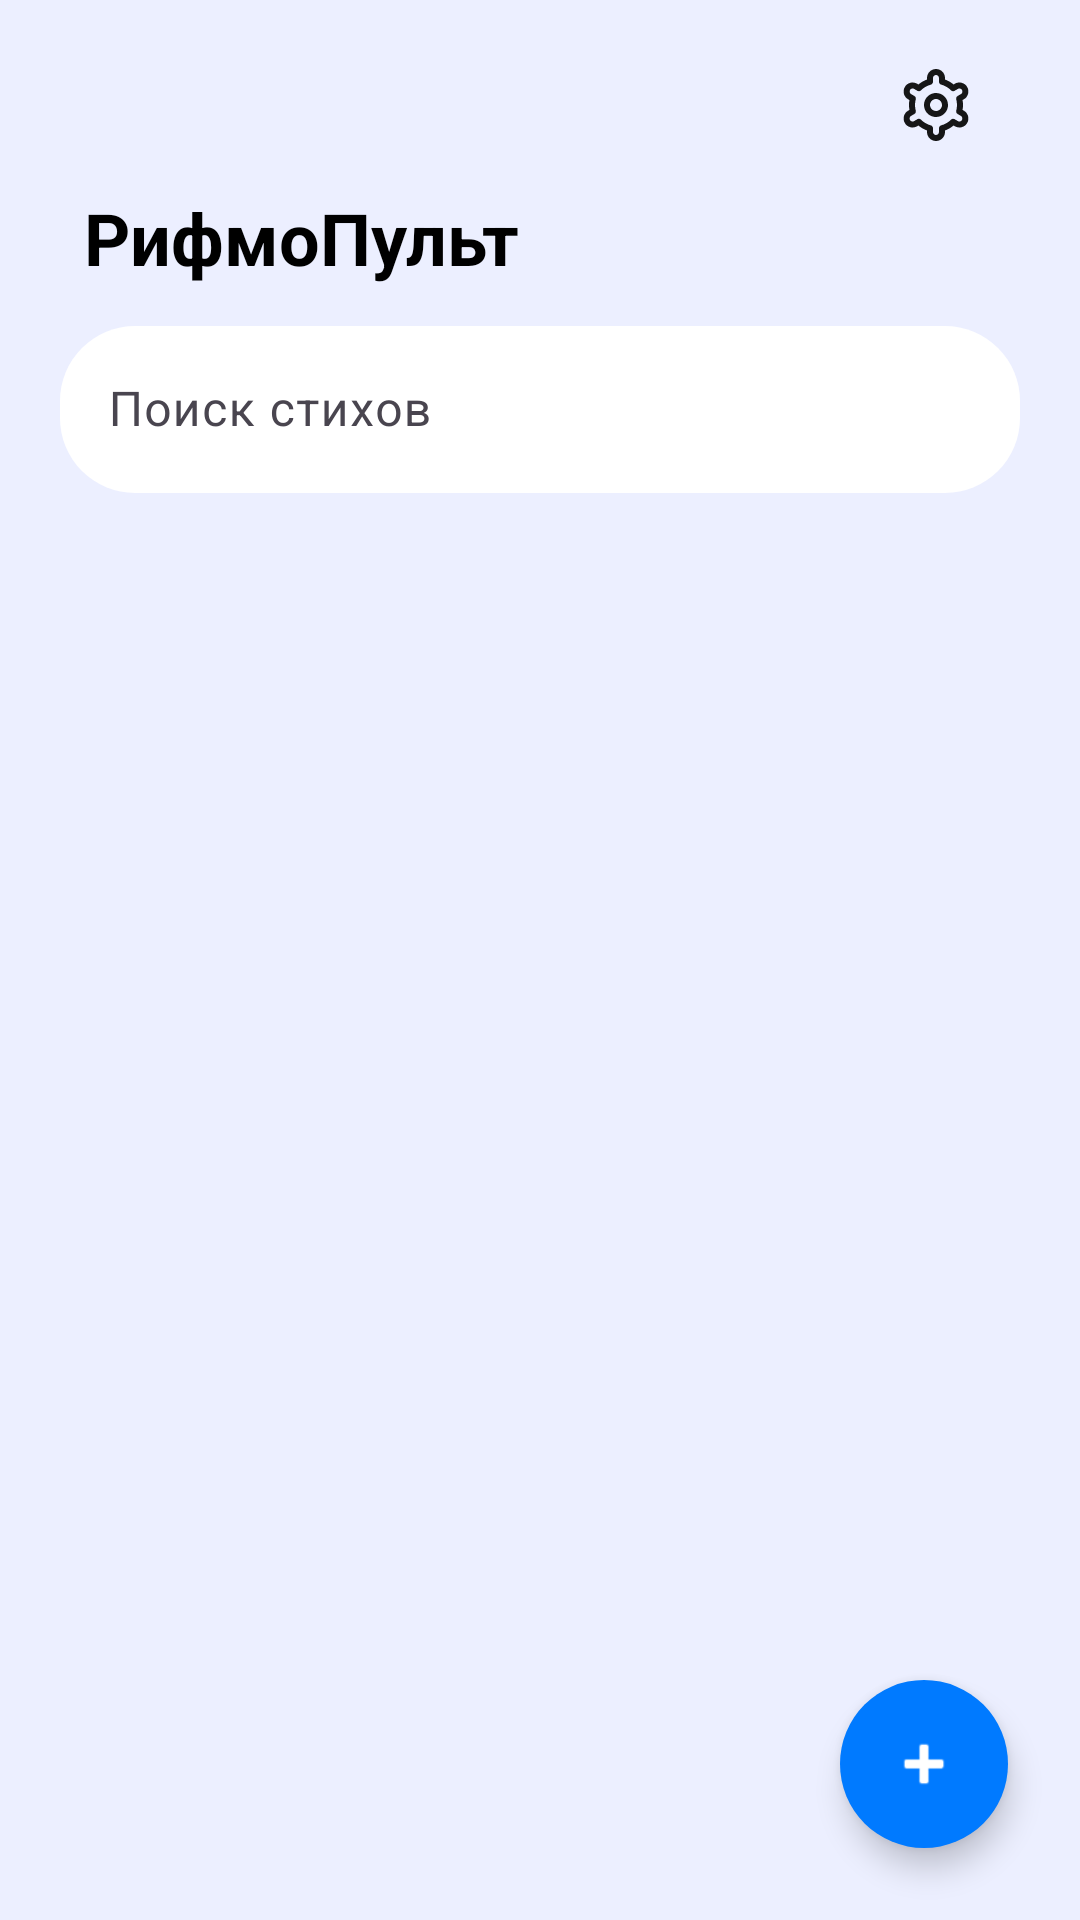

Named icons in this screenshot (1080×1920) and their centers, [x,y]:
add: [924,1764]
nastroiki: [936,105]
